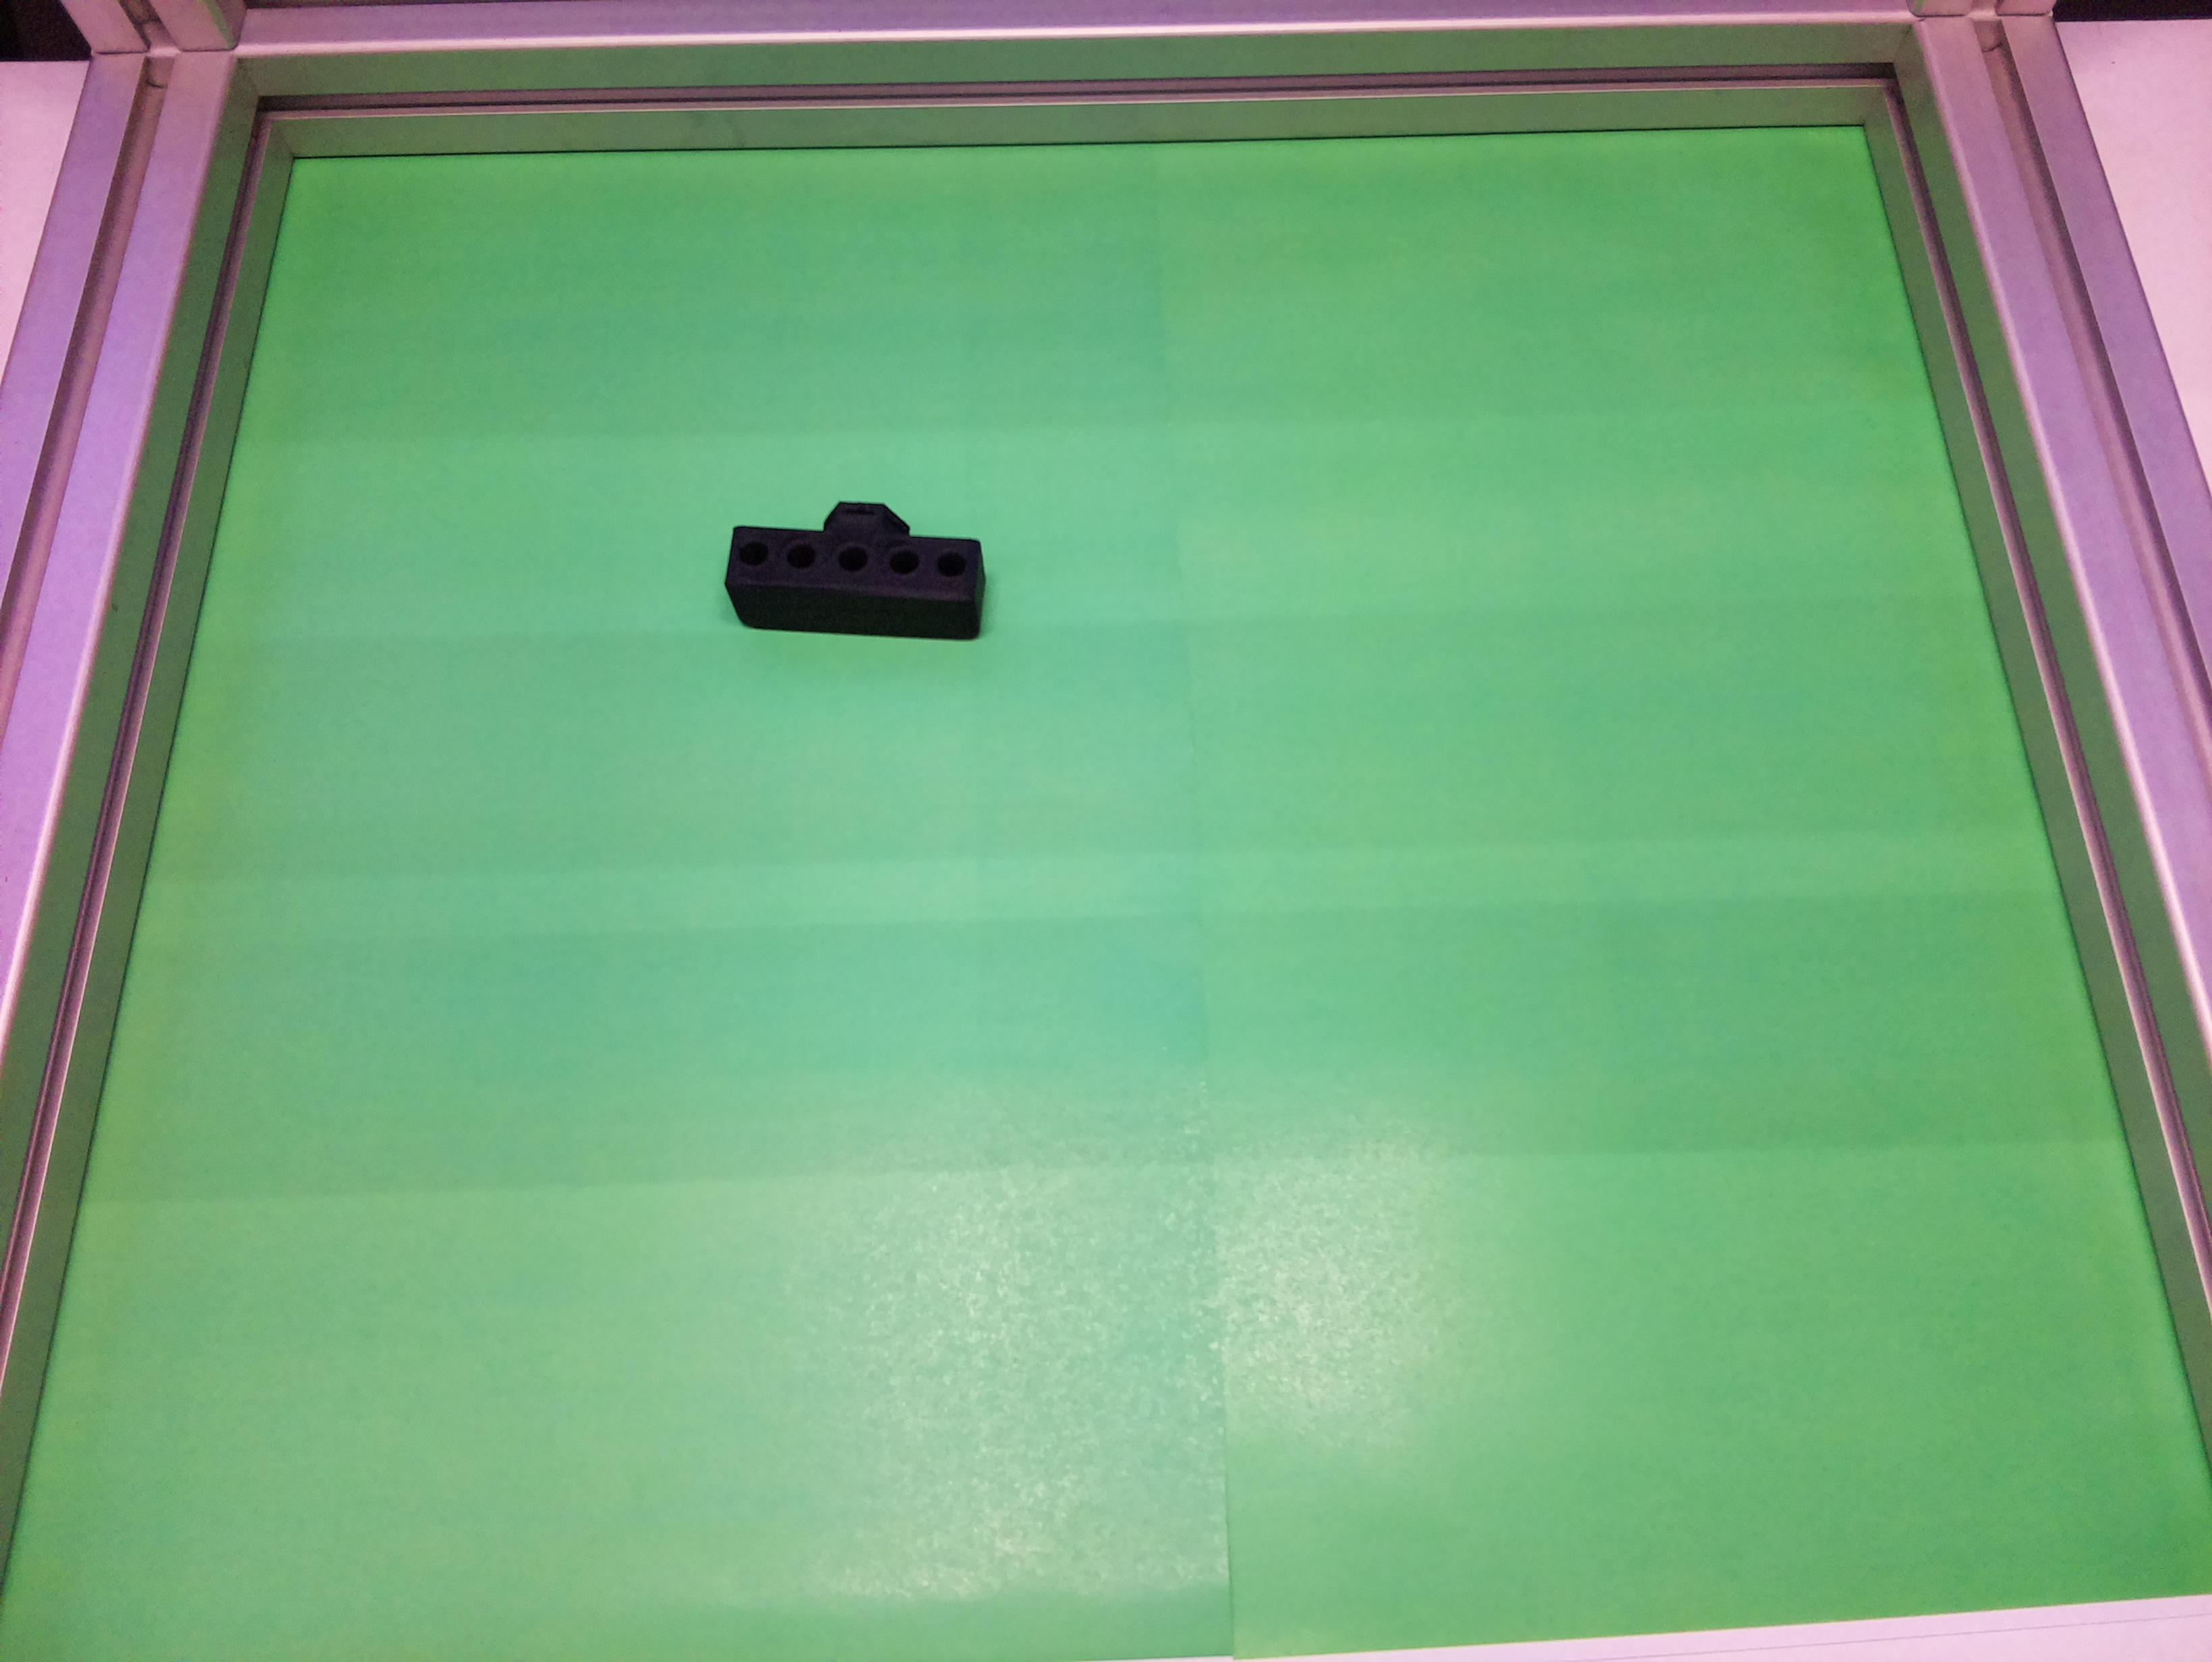bit_holder: (725, 498, 988, 641)
